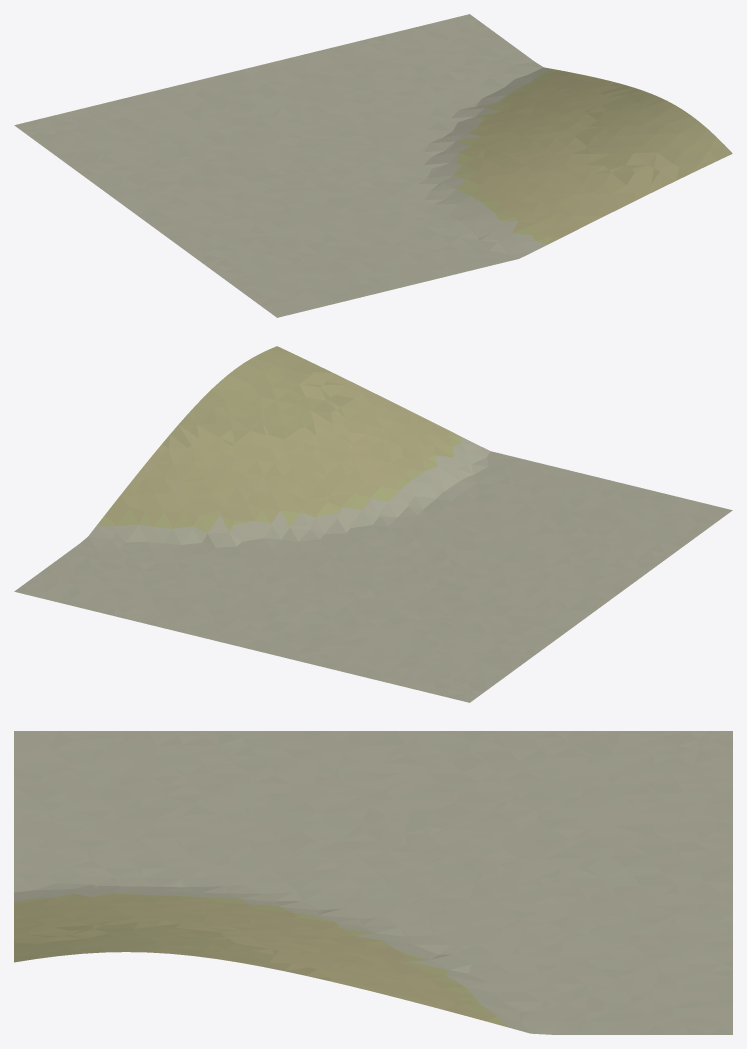
Rendered from Ground_-5_-1.glb.
3 renders of one model, top to bottom at view 1: azimuth 30°, elevation 25°; view 2: azimuth 150°, elevation 25°; view 3: azimuth 270°, elevation 25°, orthographic. The views are drawn at different scales.
Parts seen in each view (by area): view 1: Ground_-5_-1; view 2: Ground_-5_-1; view 3: Ground_-5_-1.
Part boxes in pixels (box(x1,y1,x2,y2)): Ground_-5_-1: box(14, 14, 732, 317); Ground_-5_-1: box(14, 346, 732, 702); Ground_-5_-1: box(14, 731, 732, 1034).
Bounding box in the file's own units: 768 × 97.65 × 768.
